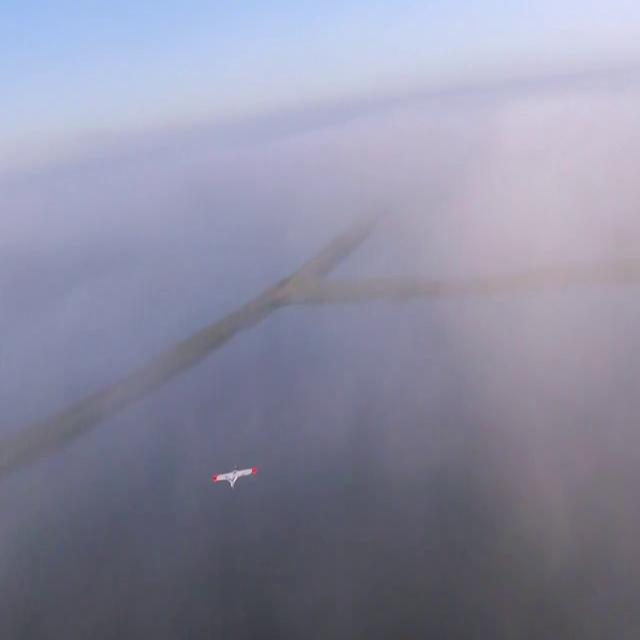iha: (210, 464, 259, 493)
